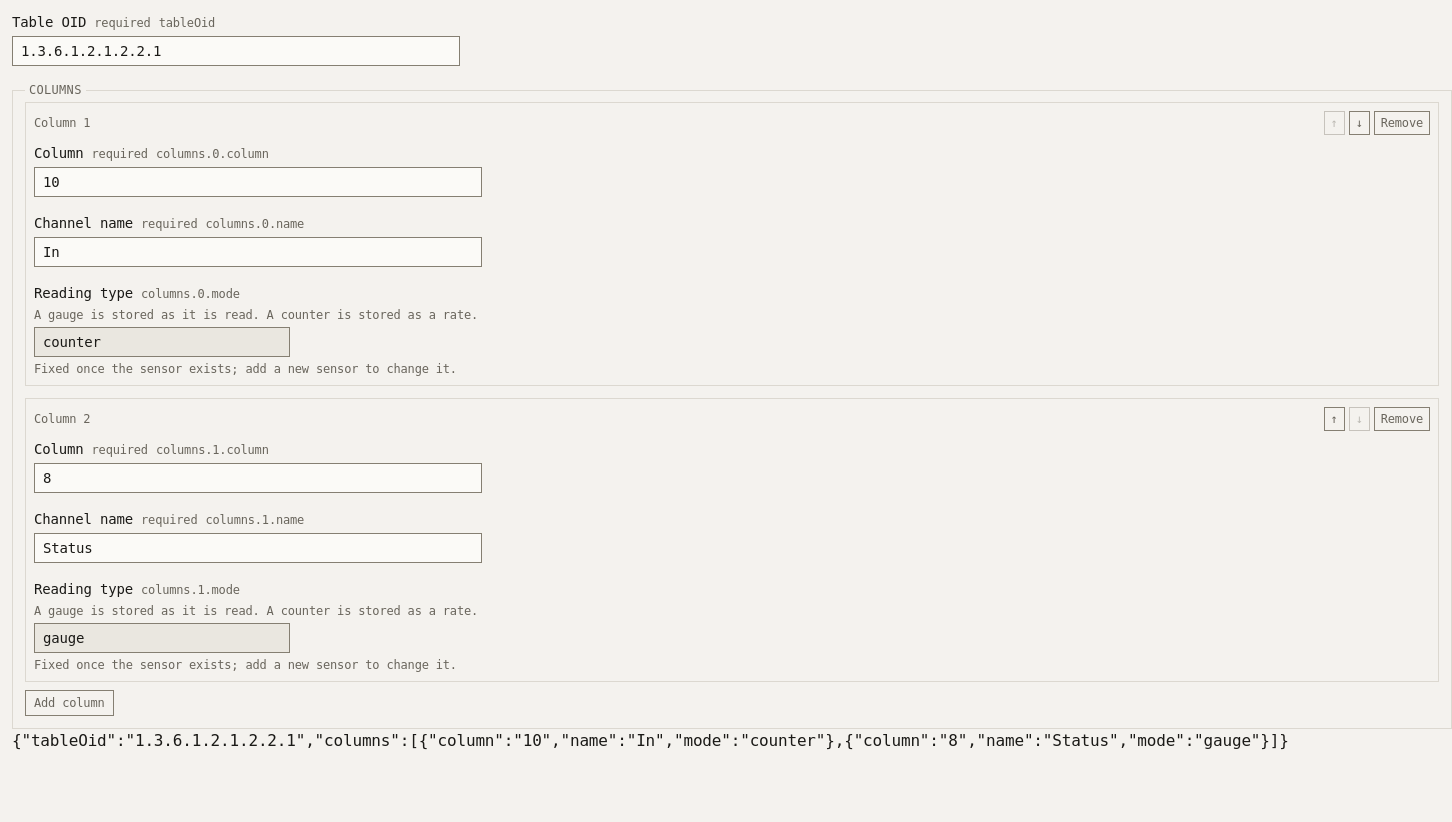
Test: a fixed field in a table column (snmp.table) › locks at the default, with focus on the box, when a changed field is set to "—" (U-39)
Replace the text in the field labelled "Column" below "columns.0.column" with "8" at (258, 182), box 34,167 -> 482,197
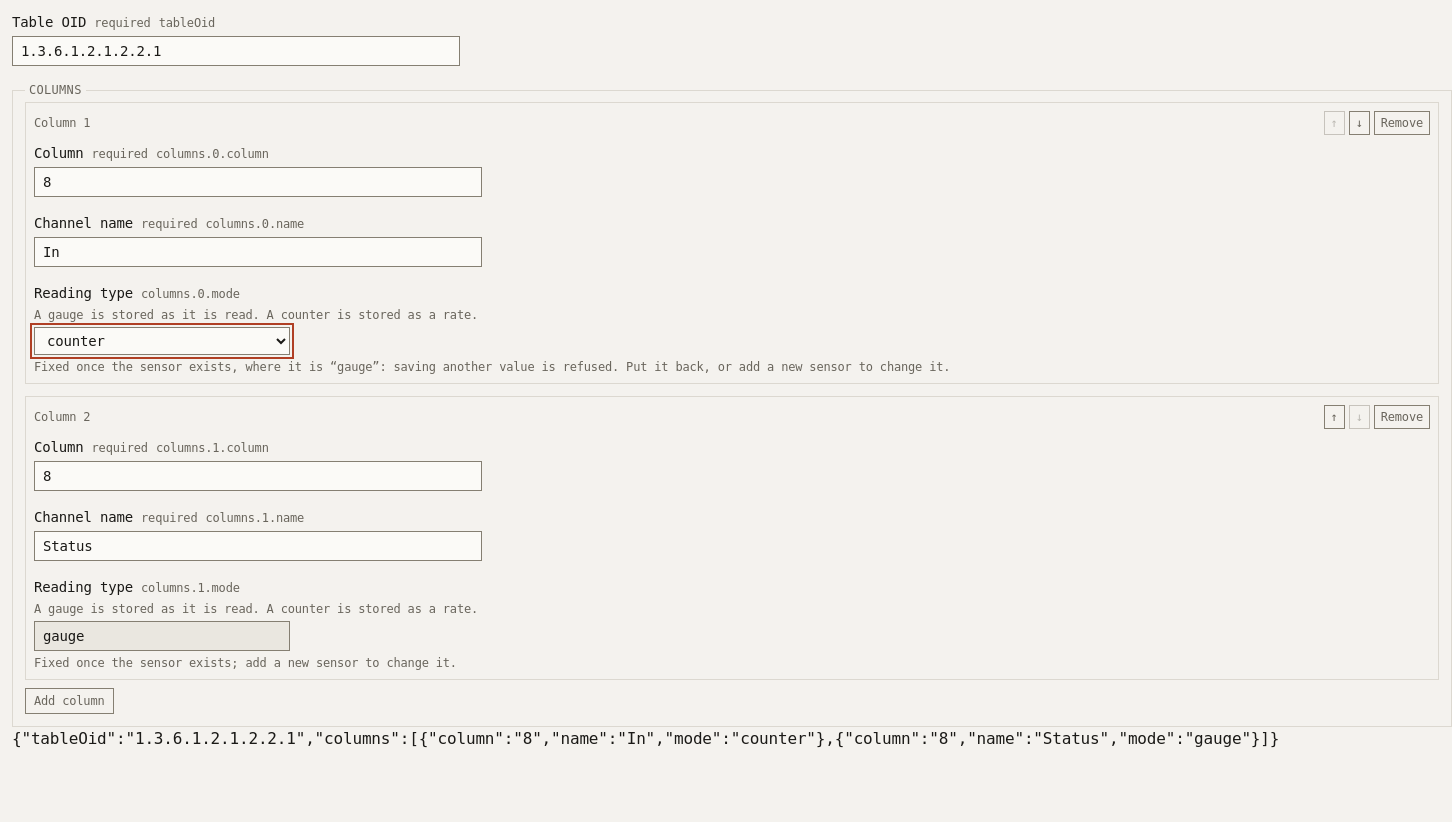
Select "—" in the dropdown labelled "Reading type" at (162, 341), box 34,327 -> 290,355
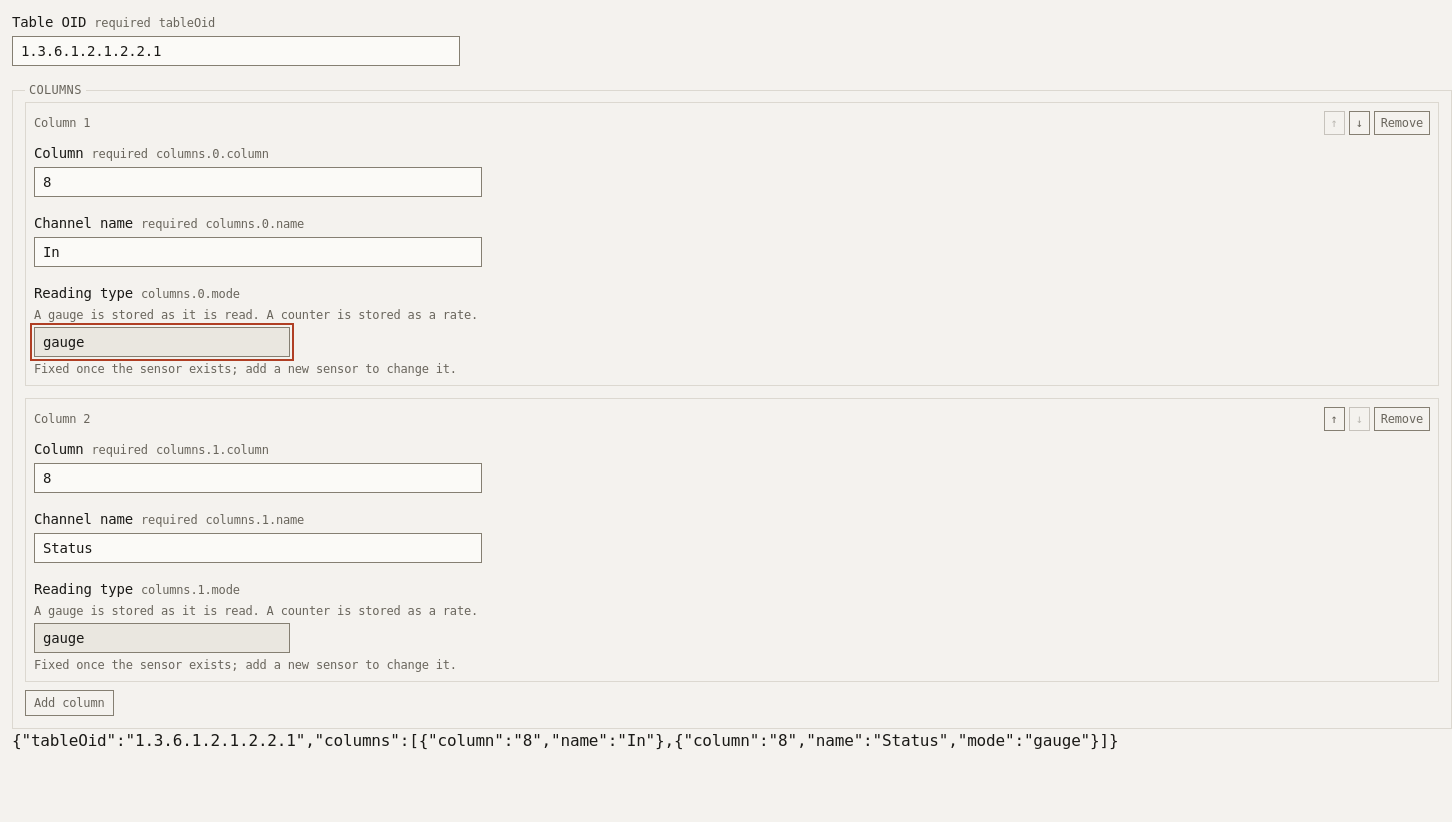
Expected: the field labelled "Reading type" below "columns.0.mode" holds "gauge", 34,327 -> 290,357
